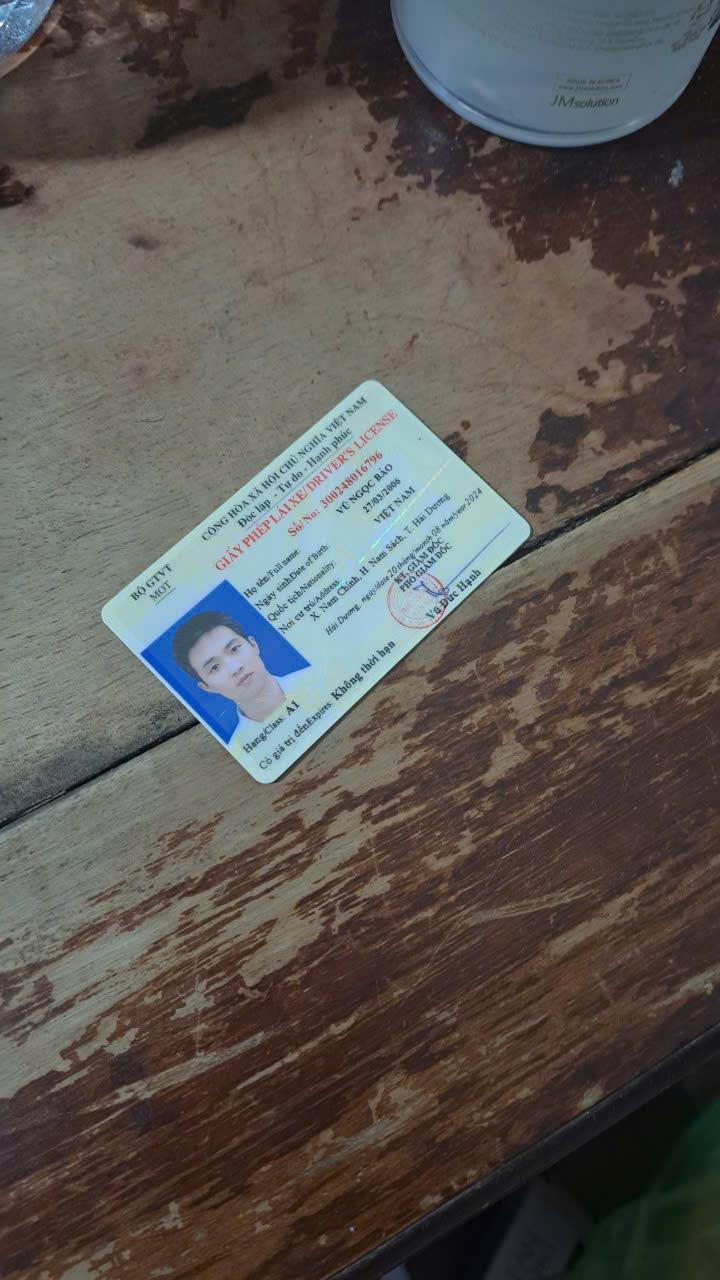gplx: (94, 371, 540, 797)
